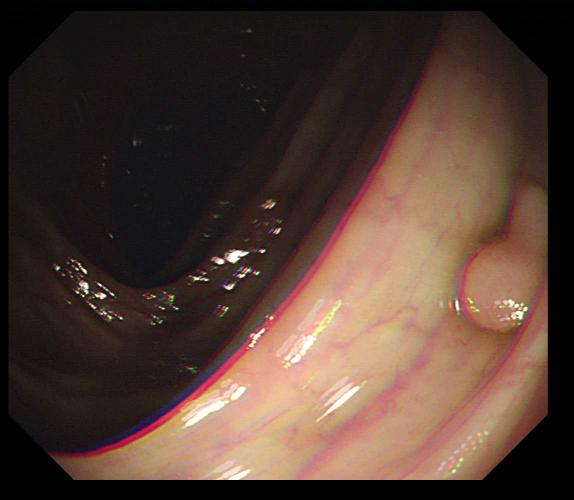polyp: (459, 178, 547, 331)
